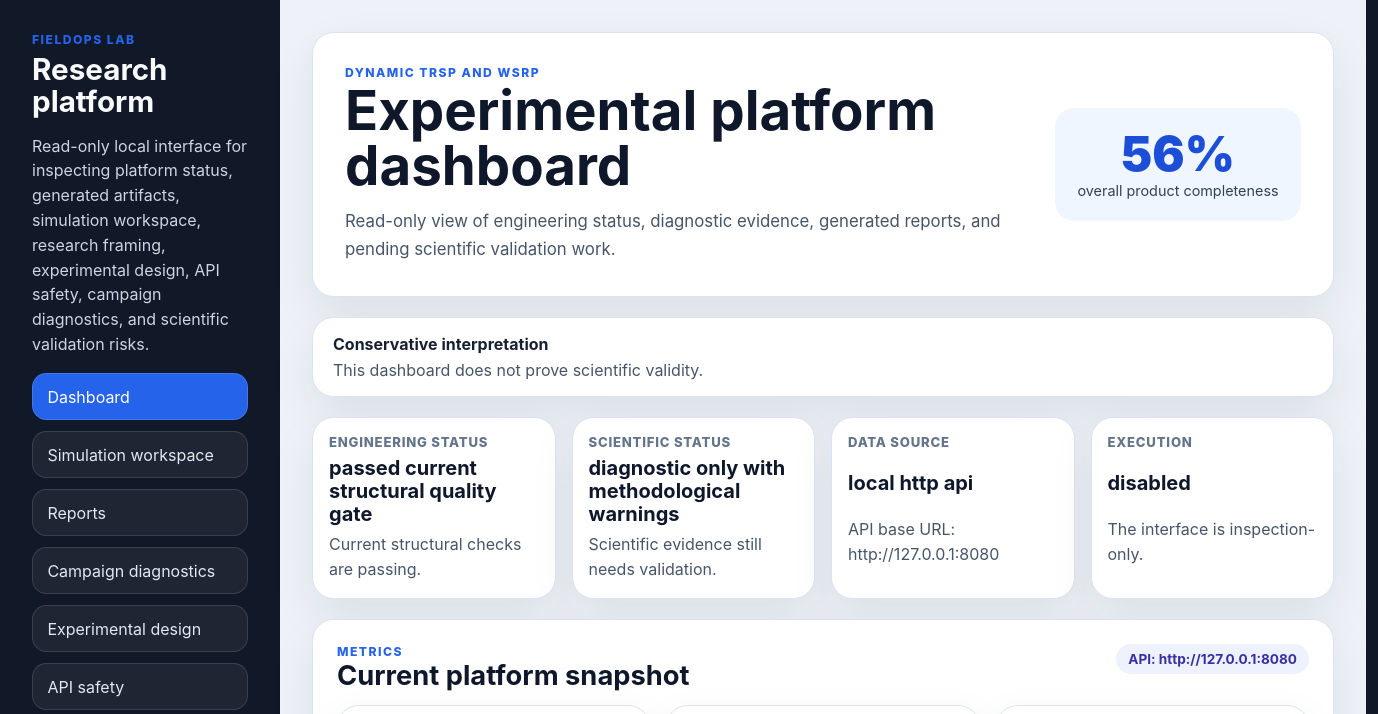
Test case: Simulation workspace page › loads the simulation state sample, delay injection contract, decision response contract, decision response sample, and playback control contract without enablin
This screenshot has width=1378, height=714.
Expected: the heading "Experimental platform dashboard" is shown, [345,83,1023,192]
Click the button "Simulation workspace" at (140, 455), box [32,431,248,478]
(page scrolled)
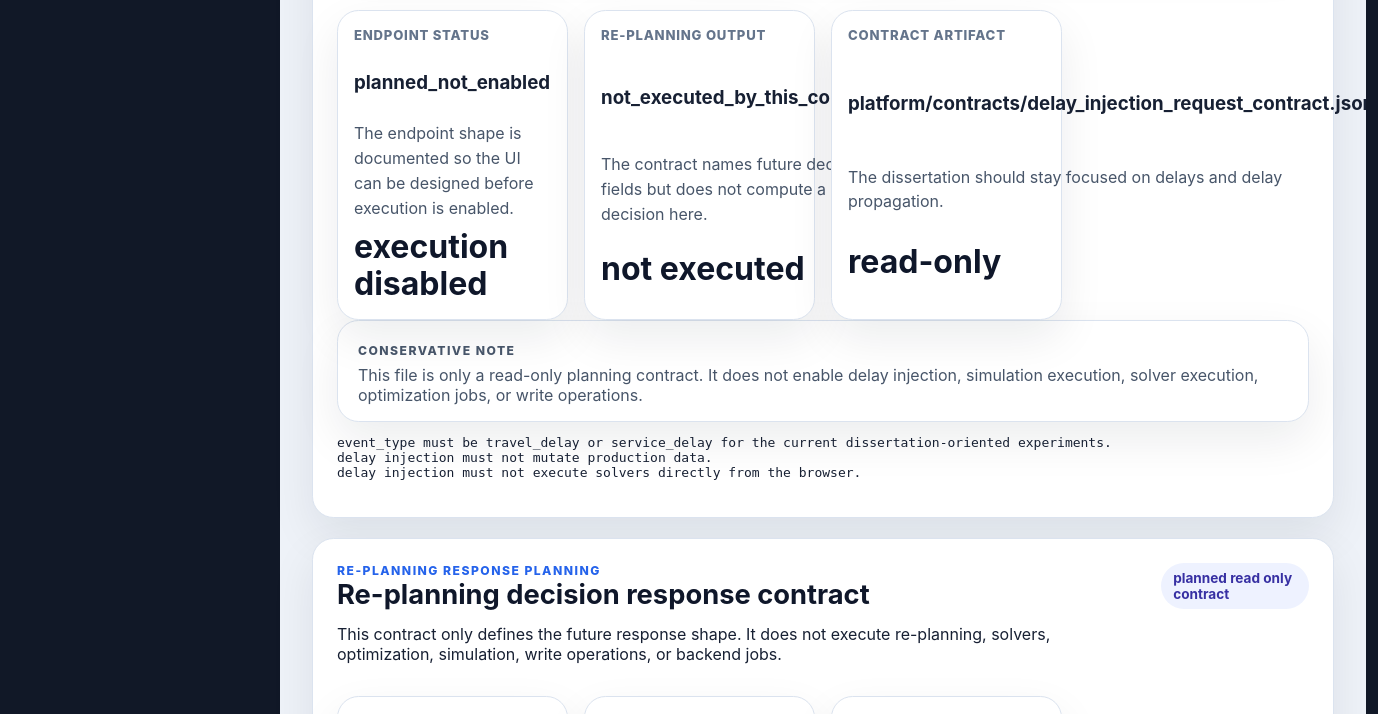
Expected: the heading "not_executed_by_this_contract" is shown, [601,86,884,109]
Expected: the heading "Re-planning decision response contract" is shown, [337,578,870,611]
Expected: the text "It does not enable delay injection, simulation execution" is shown, [358,365,1258,405]
